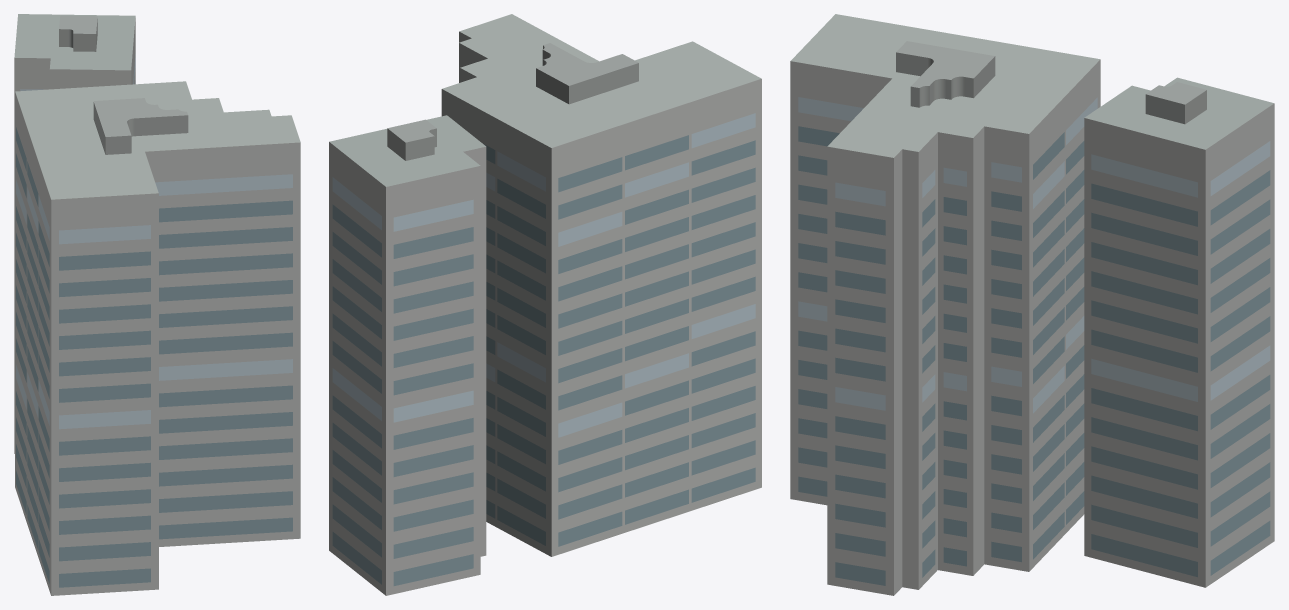
File: apt-a13071201.glb
3 views of the same model, side by side, from view 1: azimuth 30°, elevation 25°; view 2: azimuth 150°, elevation 25°; view 3: azimuth 270°, elevation 25° (orthographic). The views are drawn at different scales.
Parts seen in each view (by area): view 1: apt-a13071201; view 2: apt-a13071201; view 3: apt-a13071201.
Boxes of the visible parts, bbox=[...] form: apt-a13071201: bbox=[14, 14, 300, 595]; apt-a13071201: bbox=[329, 14, 761, 595]; apt-a13071201: bbox=[790, 14, 1274, 595].
Bounding box in the file's own units: 32.25 × 47.81 × 45.82.
